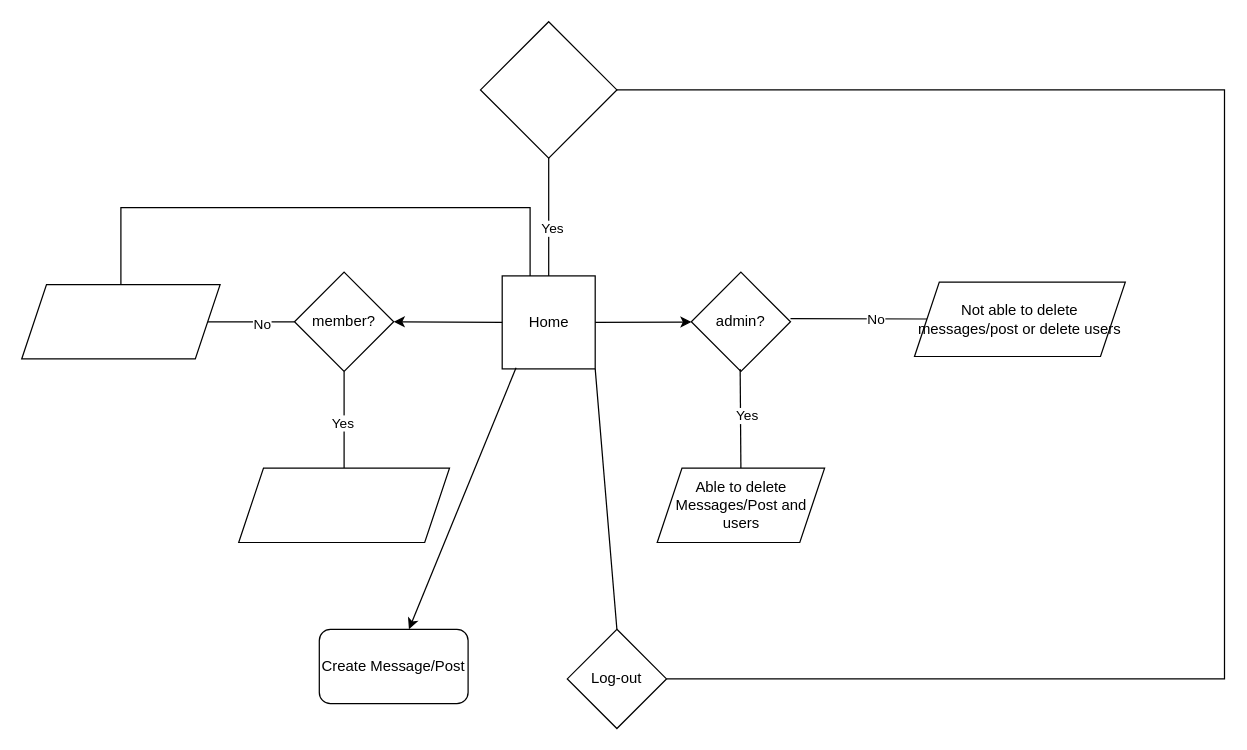
This 1247x750 diagram has some shape labels left out. The shapes that lost their labels are listed below. From the top down, each one's centre as x and y in pixels, then its label:
At [548,89]: "log-in".
At [120,321]: "Only see authors of messages/post as anonymous".
At [343,504]: "Able to see authors of Messages/Post".
